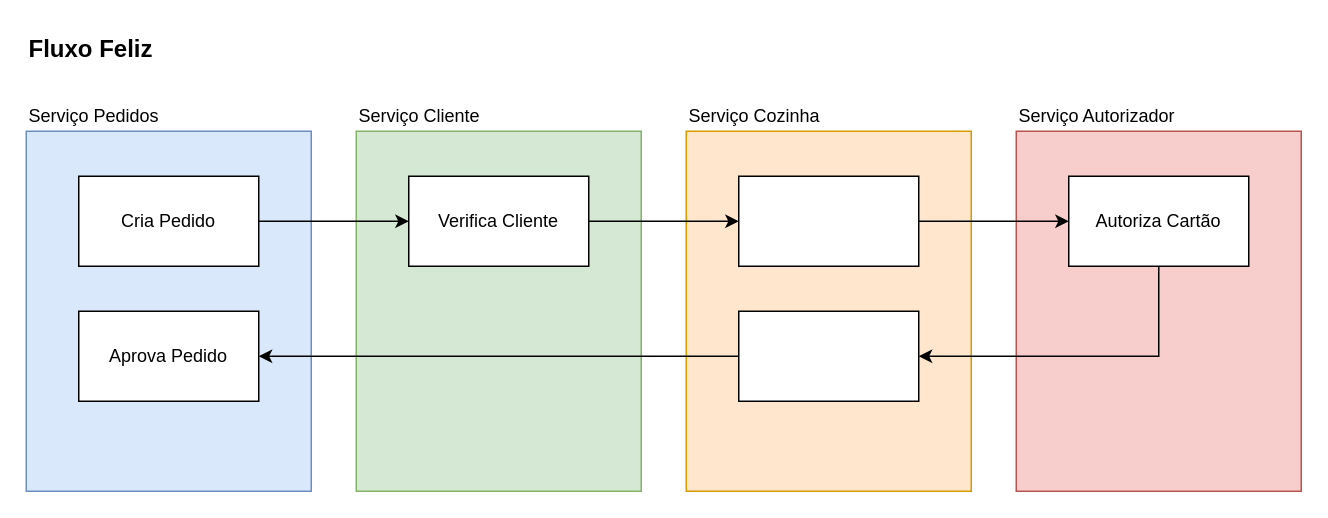
The diagram is 1328 pixels wide and 518 high, and some of its shapes have lost their labels. The shapes that lost their labels are listed below. From the top down, each one's centre as x and y in pixels, then its label:
At [828,220]: "Cria Comanda".
At [828,355]: "Aprova Comanda".
